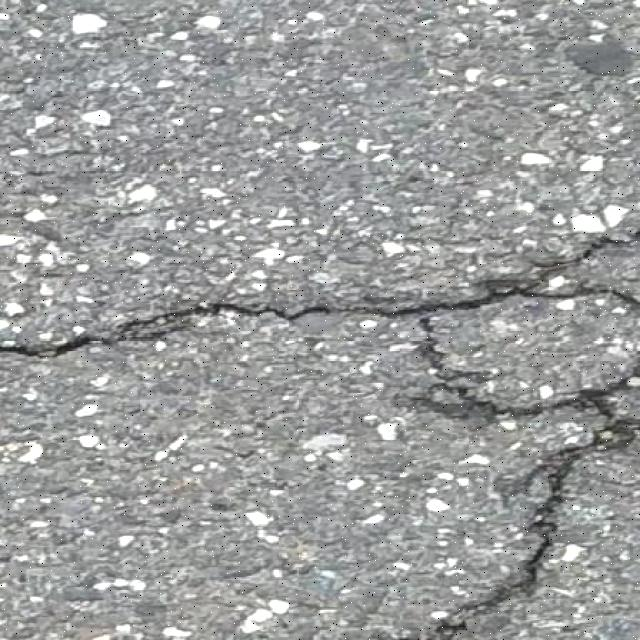Crack: (0, 249, 640, 437), (411, 406, 619, 639)
